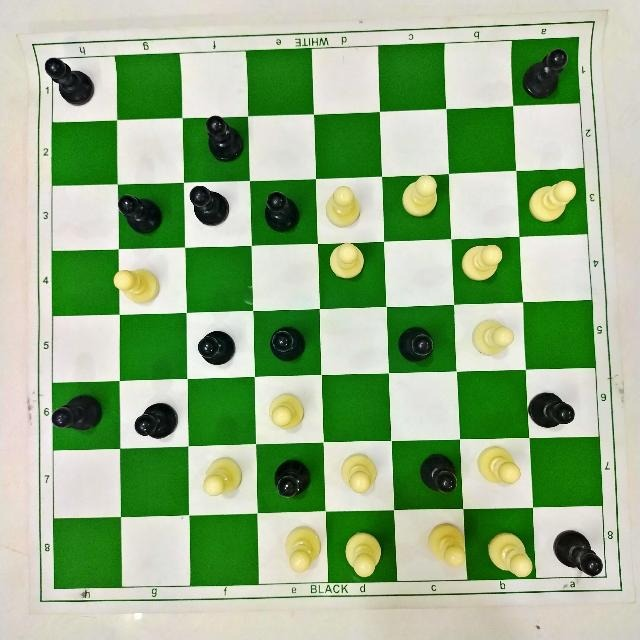black-pawn: (42, 53, 98, 106), (520, 44, 571, 102), (552, 523, 604, 579), (45, 390, 107, 435), (199, 113, 248, 165), (527, 385, 579, 434), (115, 189, 163, 240), (186, 183, 238, 227), (131, 398, 179, 444), (418, 451, 463, 497), (397, 318, 439, 367), (262, 189, 307, 233), (272, 455, 315, 501), (268, 323, 312, 365), (198, 324, 240, 366)
white-pawn: (485, 529, 535, 578), (111, 265, 163, 311), (476, 440, 522, 491), (529, 180, 581, 224), (460, 241, 508, 288), (199, 453, 245, 502), (470, 315, 520, 358), (400, 171, 444, 219), (323, 180, 366, 229), (339, 451, 381, 501), (343, 530, 384, 580), (426, 523, 468, 570), (327, 238, 369, 283), (283, 524, 321, 573), (267, 389, 306, 430)
